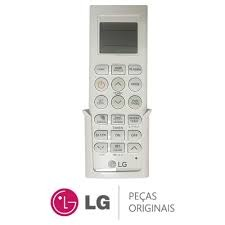remote control: (87, 5, 152, 177)
